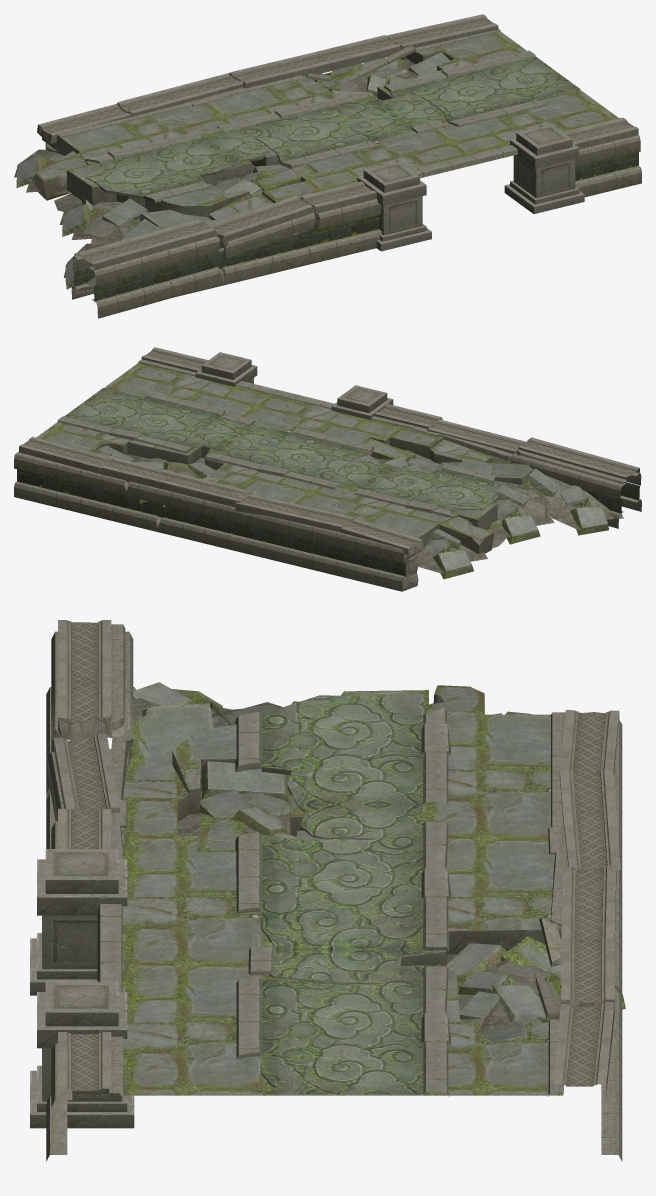
File: wlf_duanqiao04_jgc.FBX
3 views of the same model, one above another, from view 1: azimuth 30°, elevation 25°; view 2: azimuth 150°, elevation 25°; view 3: azimuth 270°, elevation 25° (orthographic). The views are drawn at different scales.
Visible parts, largest first — view 1: wlf_duanqiao04_jgc; view 2: wlf_duanqiao04_jgc; view 3: wlf_duanqiao04_jgc.
Part boxes in pixels (<box>): wlf_duanqiao04_jgc: <box>14,14,641,318</box>; wlf_duanqiao04_jgc: <box>14,347,641,591</box>; wlf_duanqiao04_jgc: <box>30,620,625,1161</box>.
Bounding box in the file's own units: 225 × 25.23 × 120.
